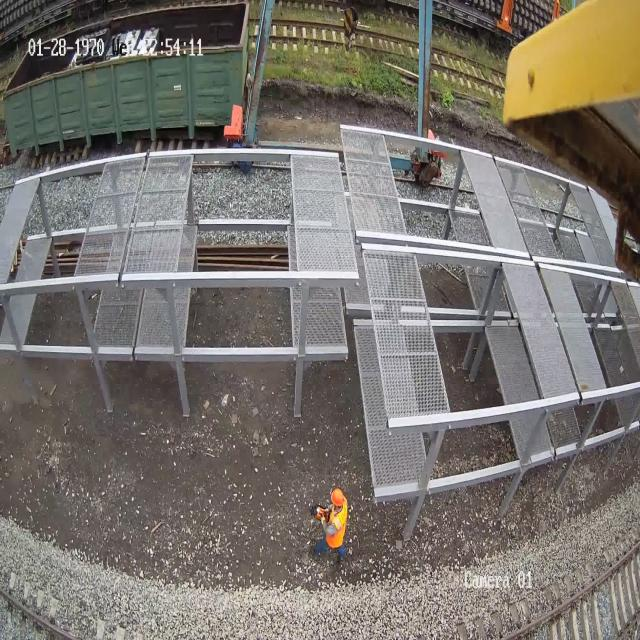Helmet: (331, 488, 343, 506)
Person: (314, 487, 348, 561)
